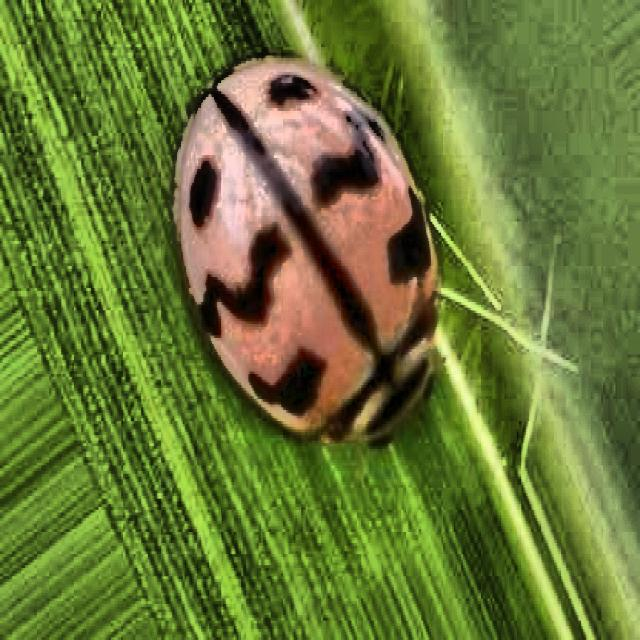Asian-Lady-beetle: (150, 0, 496, 565)
